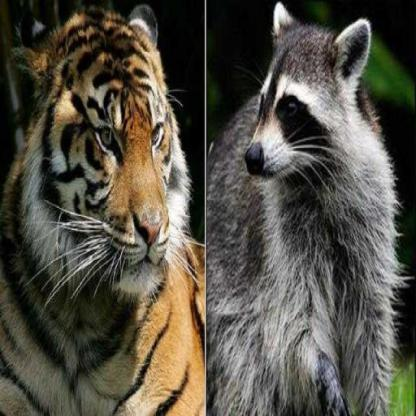Tiger: (0, 0, 204, 400)
